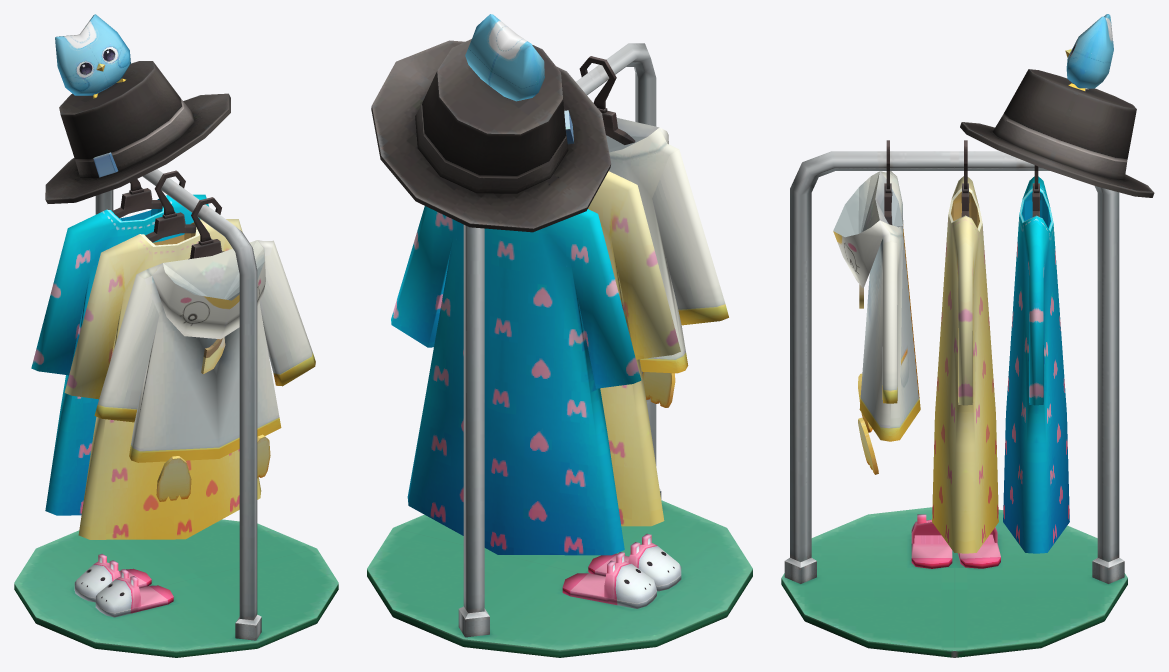
Rendered from my_shoppingmall_01_clothesrack_01.glb.
The picture shows the model from 3 angles, left to right: view 1: azimuth 30°, elevation 25°; view 2: azimuth 150°, elevation 25°; view 3: azimuth 270°, elevation 25°; orthographic projection. The views are drawn at different scales.
Visible parts, largest first — view 1: my_shoppingmall_01_clothesrack_01; view 2: my_shoppingmall_01_clothesrack_01; view 3: my_shoppingmall_01_clothesrack_01.
Boxes of the visible parts, left/top/right/bottom form: my_shoppingmall_01_clothesrack_01: left=14, top=14, right=338, bottom=657; my_shoppingmall_01_clothesrack_01: left=367, top=14, right=752, bottom=657; my_shoppingmall_01_clothesrack_01: left=781, top=14, right=1154, bottom=657.
Size of the model in its own units: 0.00534 by 0.00956 by 0.00575.
Materials: 1 (1 with a texture image).
